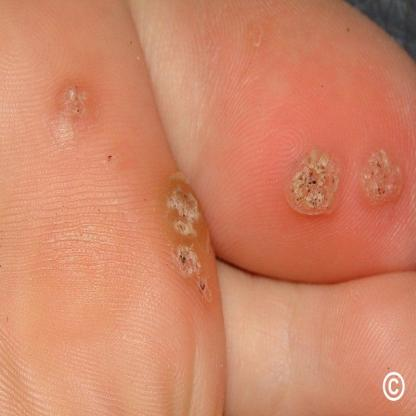Warts: (279, 134, 347, 227), (359, 131, 408, 217), (168, 230, 219, 307), (43, 73, 90, 152), (160, 167, 206, 246)
